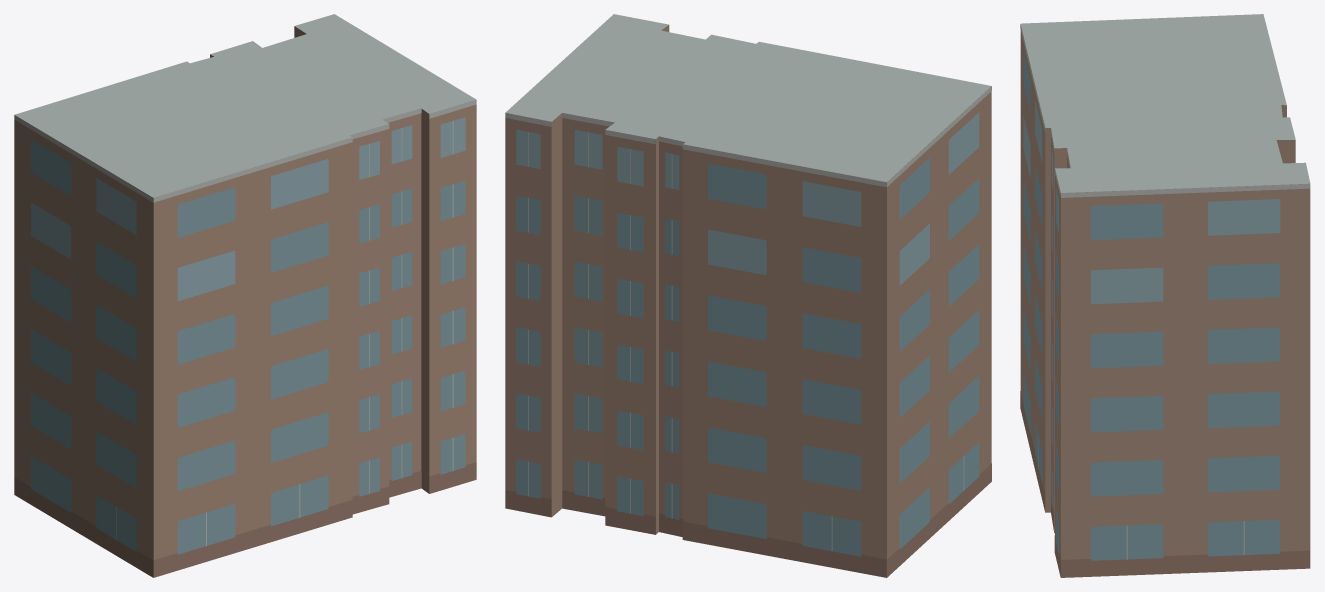
Rendered from survey-upis-32960284.glb.
3 renders of one model, left to right at view 1: azimuth 30°, elevation 25°; view 2: azimuth 150°, elevation 25°; view 3: azimuth 270°, elevation 25°, orthographic. The views are drawn at different scales.
Visible parts, largest first — view 1: survey-upis-32960284.tmp; view 2: survey-upis-32960284.tmp; view 3: survey-upis-32960284.tmp.
Part boxes in pixels (<box>): survey-upis-32960284.tmp: <box>14,14,476,577</box>; survey-upis-32960284.tmp: <box>505,14,991,577</box>; survey-upis-32960284.tmp: <box>1020,14,1310,577</box>.
Bounding box in the file's own units: 19.07 × 19.1 × 13.05.
